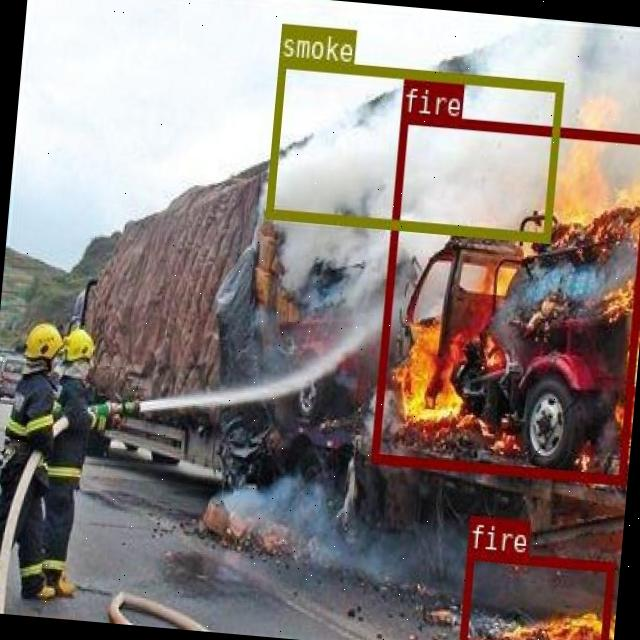fire: (368, 112, 640, 483), (457, 548, 613, 640)
smoke: (265, 56, 562, 240)
